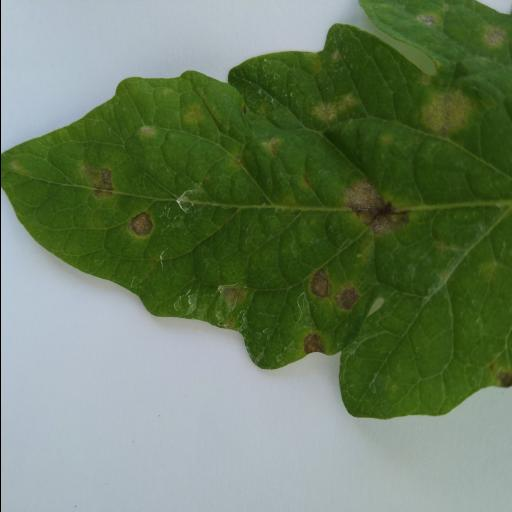disease_tomato: (0, 0, 512, 422)
